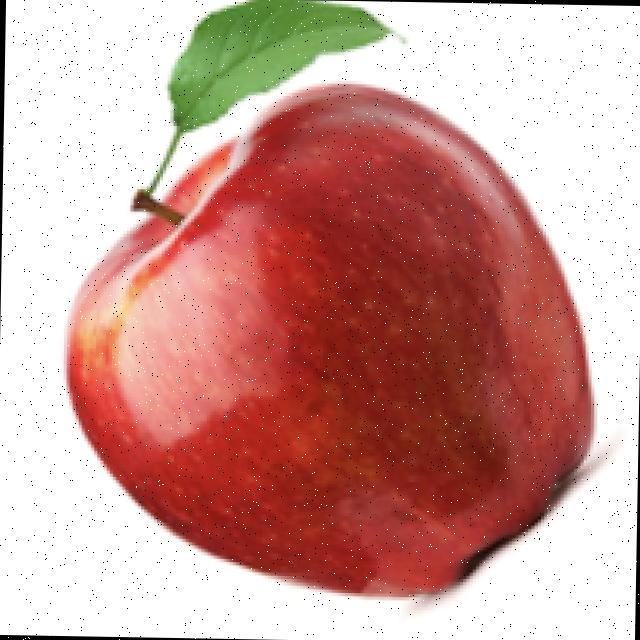apple: (57, 0, 625, 619)
